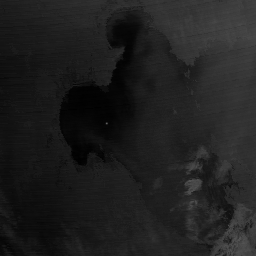Target: (104, 121, 109, 126)
